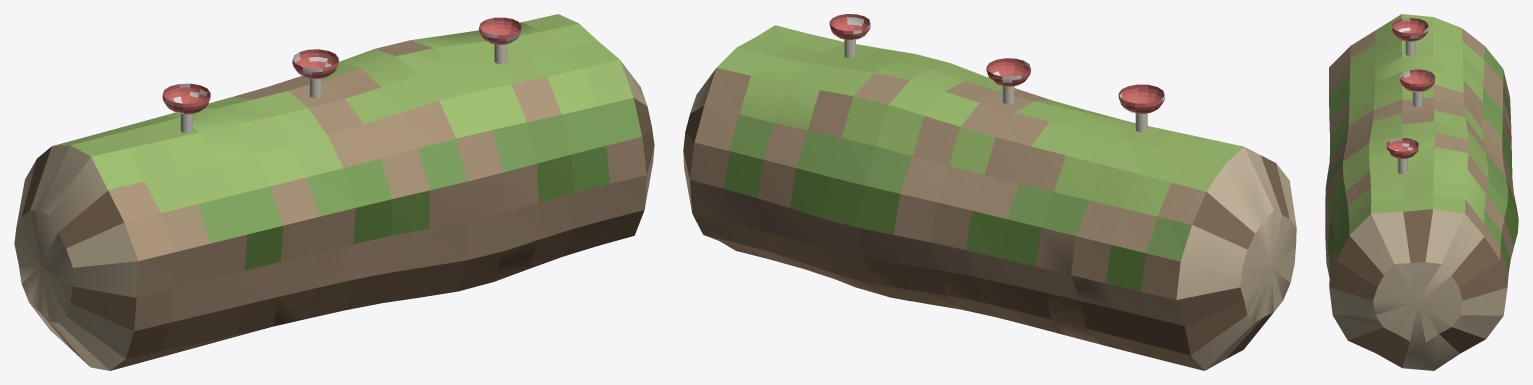
The model's file is Mossy_Log.glb.
The picture shows the model from 3 angles, left to right: view 1: azimuth 30°, elevation 25°; view 2: azimuth 150°, elevation 25°; view 3: azimuth 270°, elevation 25°; orthographic projection. The views are drawn at different scales.
Parts seen in each view (by area): view 1: Mossy_Log_Merged; view 2: Mossy_Log_Merged; view 3: Mossy_Log_Merged.
Part boxes in pixels (box(x1,y1,x2,y2)): Mossy_Log_Merged: box(14, 14, 654, 370); Mossy_Log_Merged: box(683, 14, 1296, 370); Mossy_Log_Merged: box(1325, 14, 1518, 370).
Bounding box in the file's own units: 2.63 × 1.11 × 0.9777.
